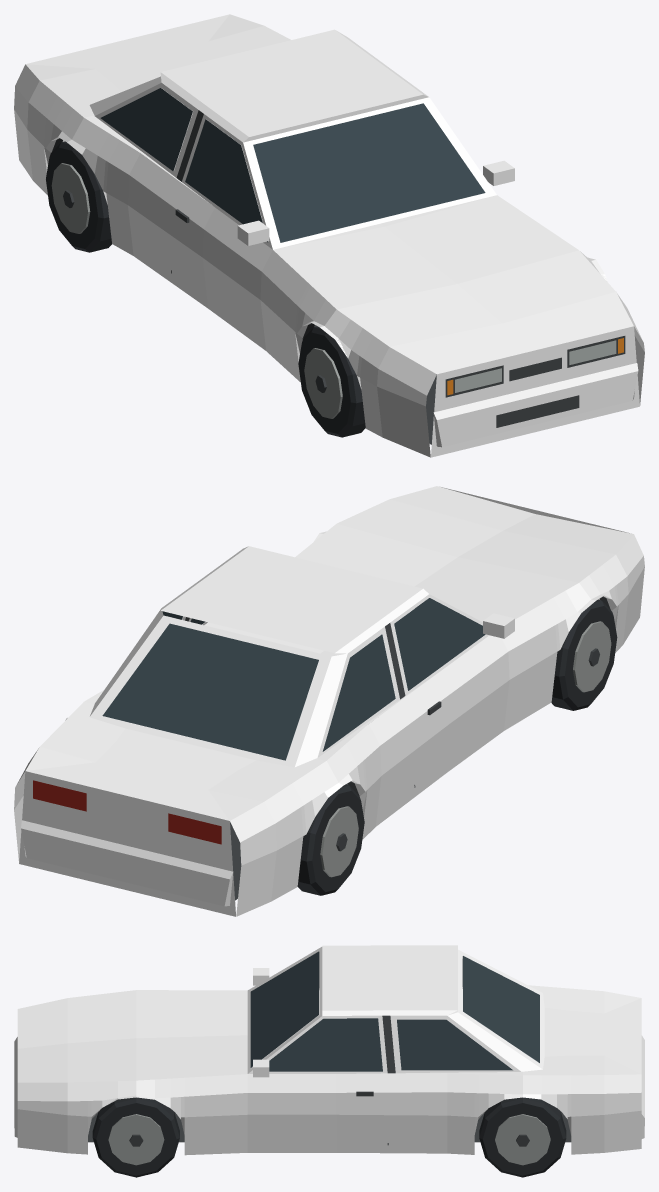
Rendered from garrison_driftwood.glb.
The picture shows the model from 3 angles, top to bottom: view 1: azimuth 30°, elevation 25°; view 2: azimuth 150°, elevation 25°; view 3: azimuth 270°, elevation 25°; orthographic projection. The views are drawn at different scales.
Visible parts, largest first — view 1: garrison_driftwood; view 2: garrison_driftwood; view 3: garrison_driftwood.
Boxes of the visible parts, box(x1,y1,x2,y2) form: garrison_driftwood: box(14, 14, 644, 457); garrison_driftwood: box(14, 486, 644, 916); garrison_driftwood: box(14, 945, 644, 1177).
Size of the model in its own units: 1.82 by 1.24 by 4.7.
8 materials, 1 textured.
